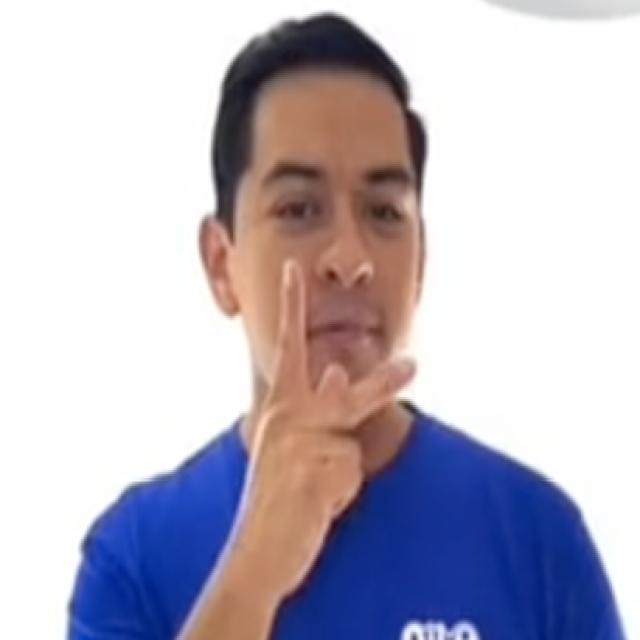PAPA: (235, 252, 424, 586)
